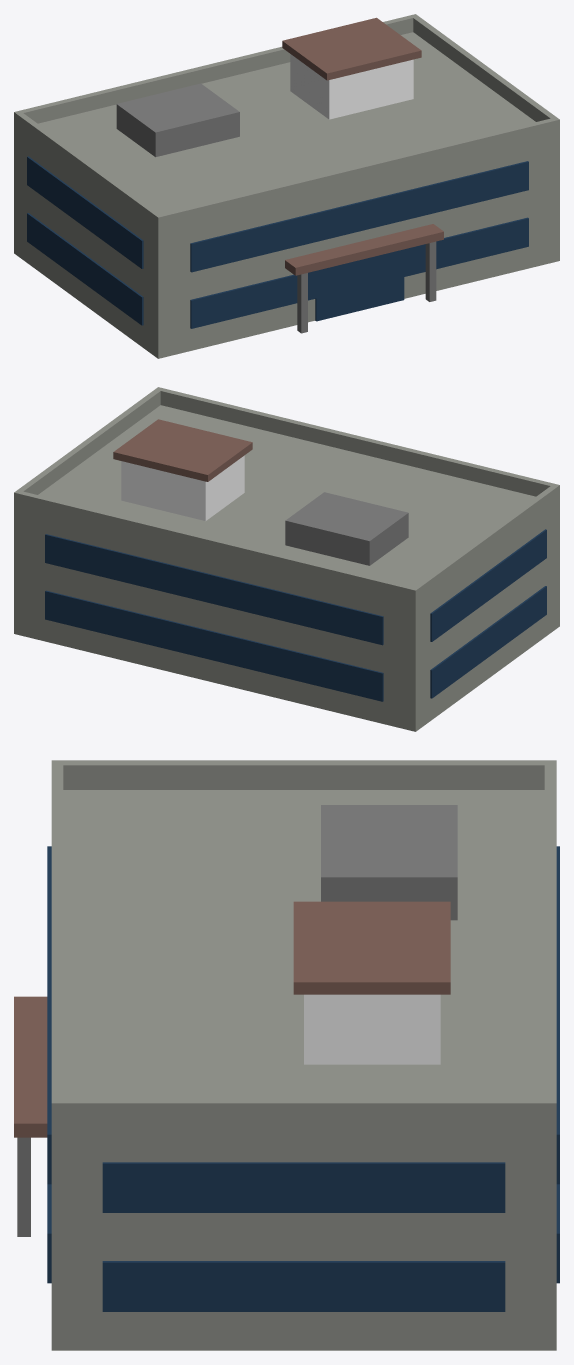
File: site_office.fbx
3 renders of one model, top to bottom at view 1: azimuth 30°, elevation 25°; view 2: azimuth 150°, elevation 25°; view 3: azimuth 270°, elevation 25°, orthographic. The views are drawn at different scales.
Visible parts, largest first — view 1: a1059/0/site_office; view 2: a1059/0/site_office; view 3: a1059/0/site_office.
Boxes of the visible parts, box(x1,y1,x2,y2) form: a1059/0/site_office: box(14, 14, 559, 358); a1059/0/site_office: box(14, 387, 559, 731); a1059/0/site_office: box(14, 760, 559, 1350).
Size of the model in its own units: 24 by 10 by 16.
